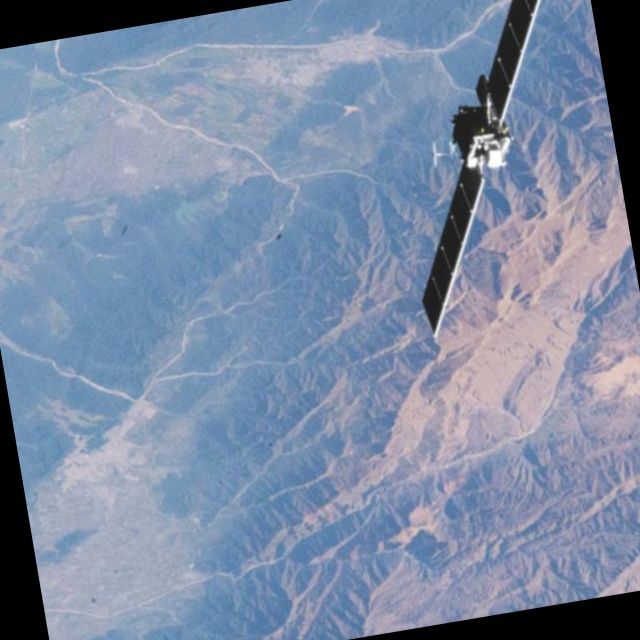satellite: (366, 0, 623, 344)
